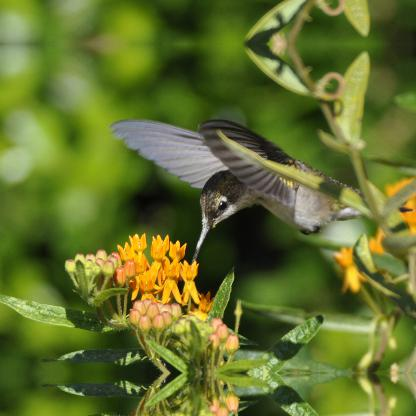Bird: (108, 118, 356, 254)
